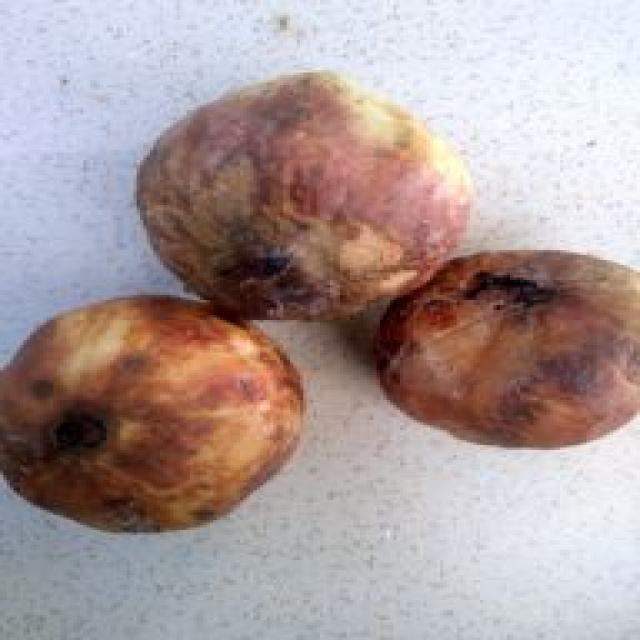Bad_Guava: (137, 71, 473, 319), (2, 296, 303, 531), (380, 251, 638, 447)
